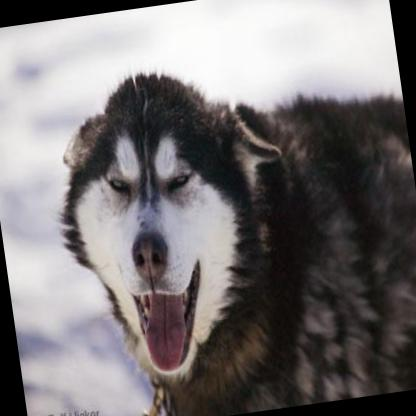Eskimo_dog: (28, 27, 416, 416)
